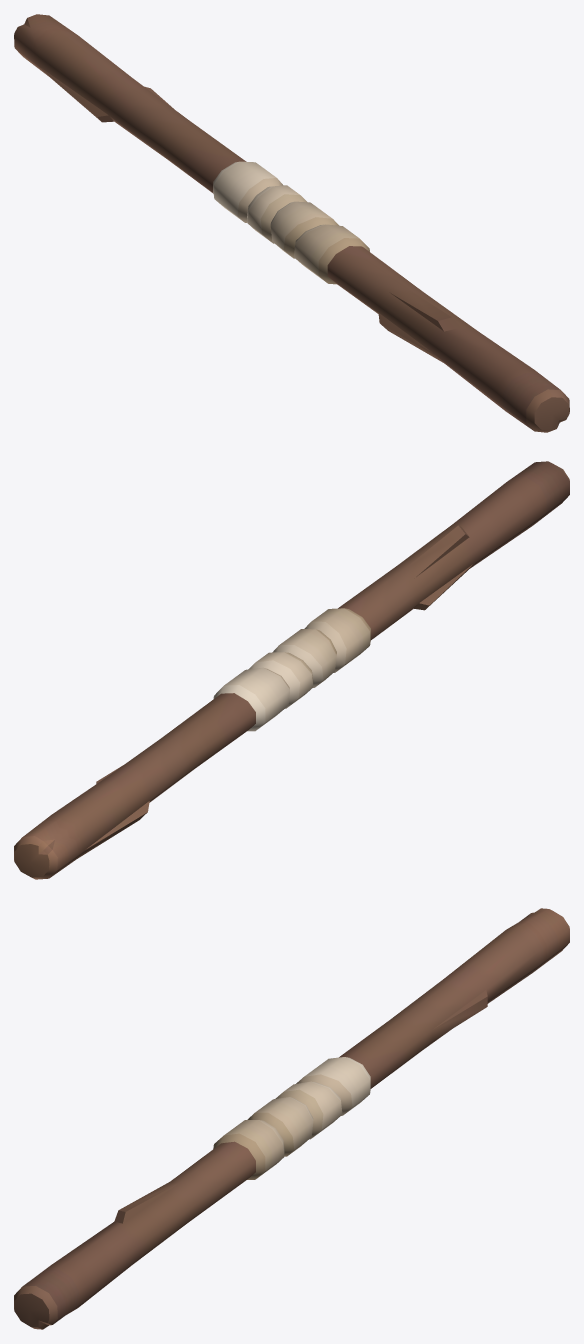
The model's file is staff.glb.
The picture shows the model from 3 angles, top to bottom: view 1: azimuth 30°, elevation 25°; view 2: azimuth 150°, elevation 25°; view 3: azimuth 330°, elevation 25°; orthographic projection.
Parts seen in each view (by area): view 1: staff_A; view 2: staff_A; view 3: staff_A.
Part boxes in pixels (left/top/right/bottom): staff_A: left=14, top=14, right=569, bottom=432; staff_A: left=14, top=461, right=569, bottom=879; staff_A: left=14, top=908, right=569, bottom=1329.
Size of the model in its own units: 0.0988 by 0.0882 by 1.7.
1 material, 1 textured.
